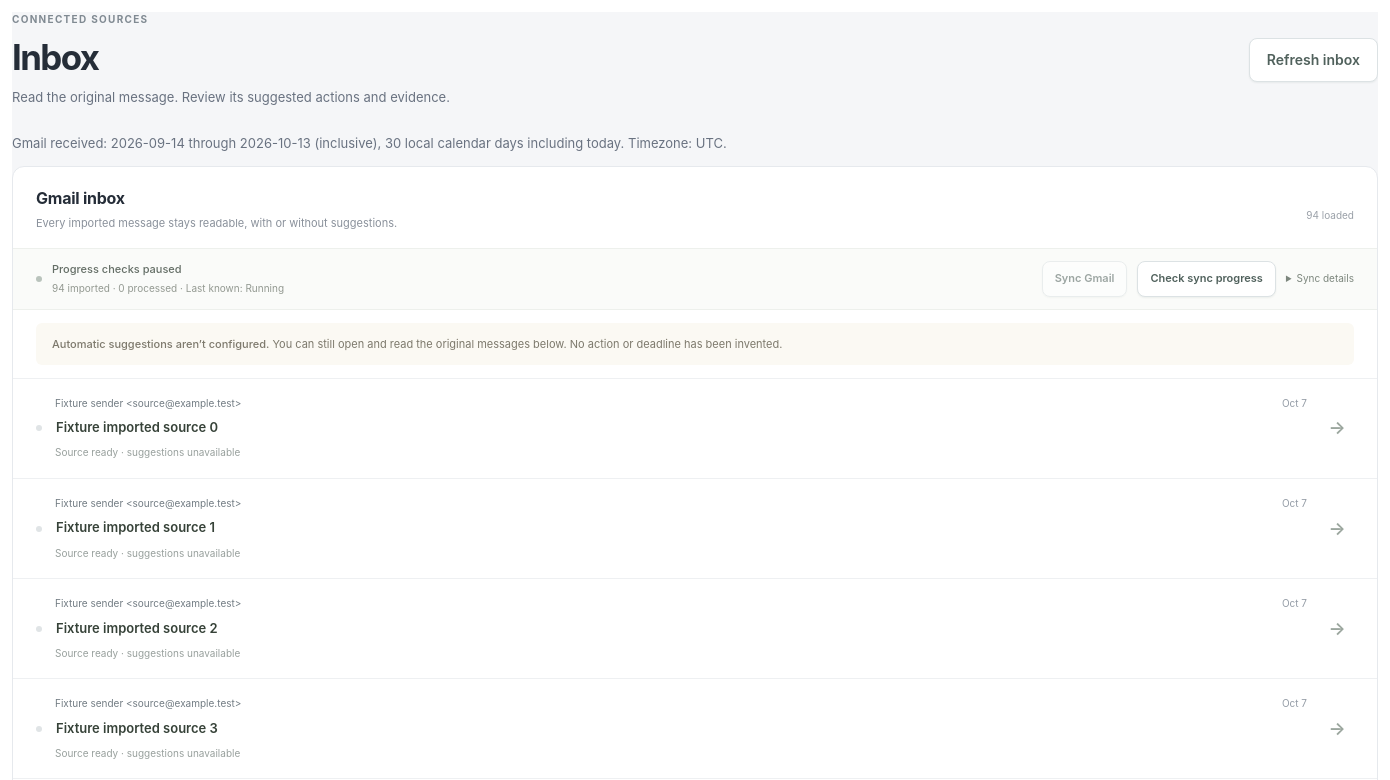
readable imports while extraction is pending › labels the bounded polling pause and resumes read-only checks explicitly
This screenshot has width=1390, height=780.
Expected: the text "Progress checks paused" is shown, [52,262,182,276]
Expected: the text "94 imported · 0 processed · Last known: Running" is shown, [52,282,284,294]
Click the button "Check sync progress" at {"x": 1207, "y": 279}, box [1137,261,1276,297]
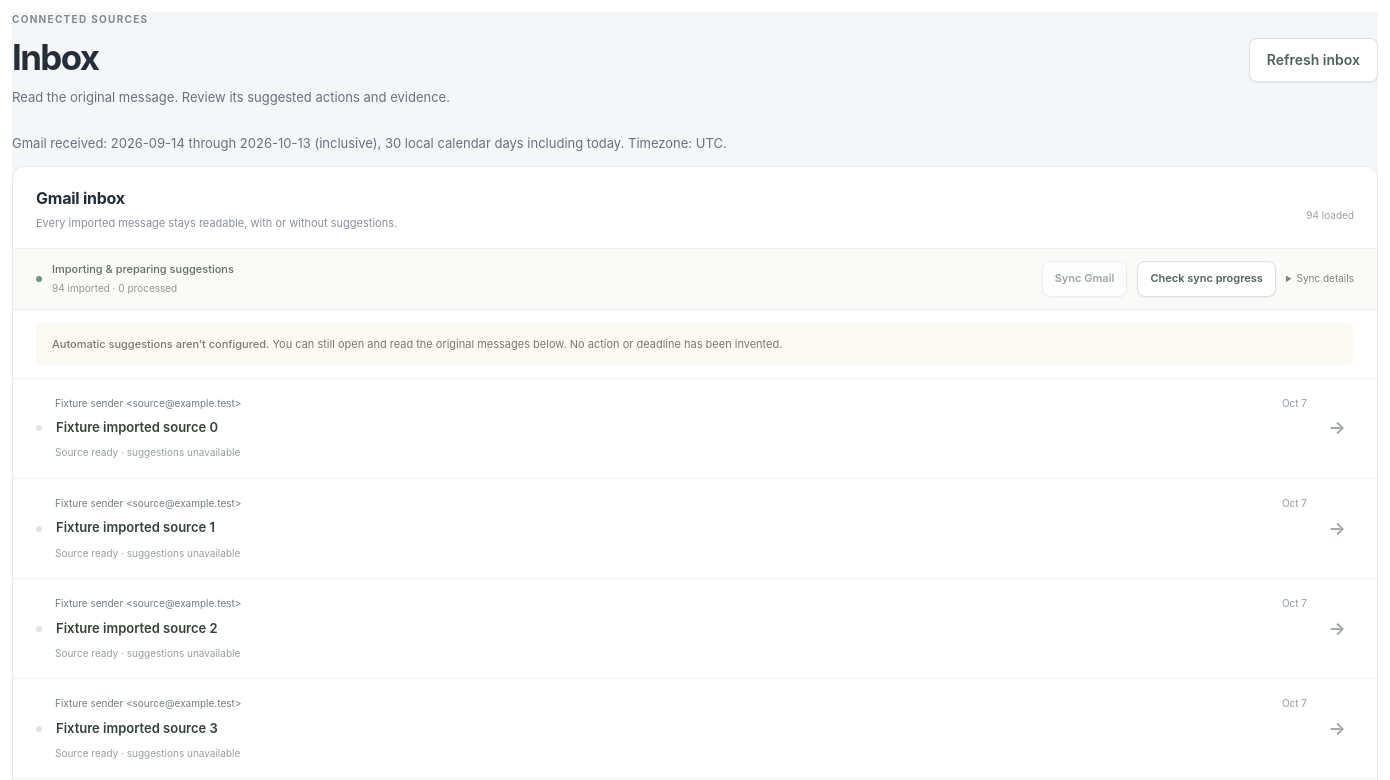
Result: the text "Progress checks paused" is gone
